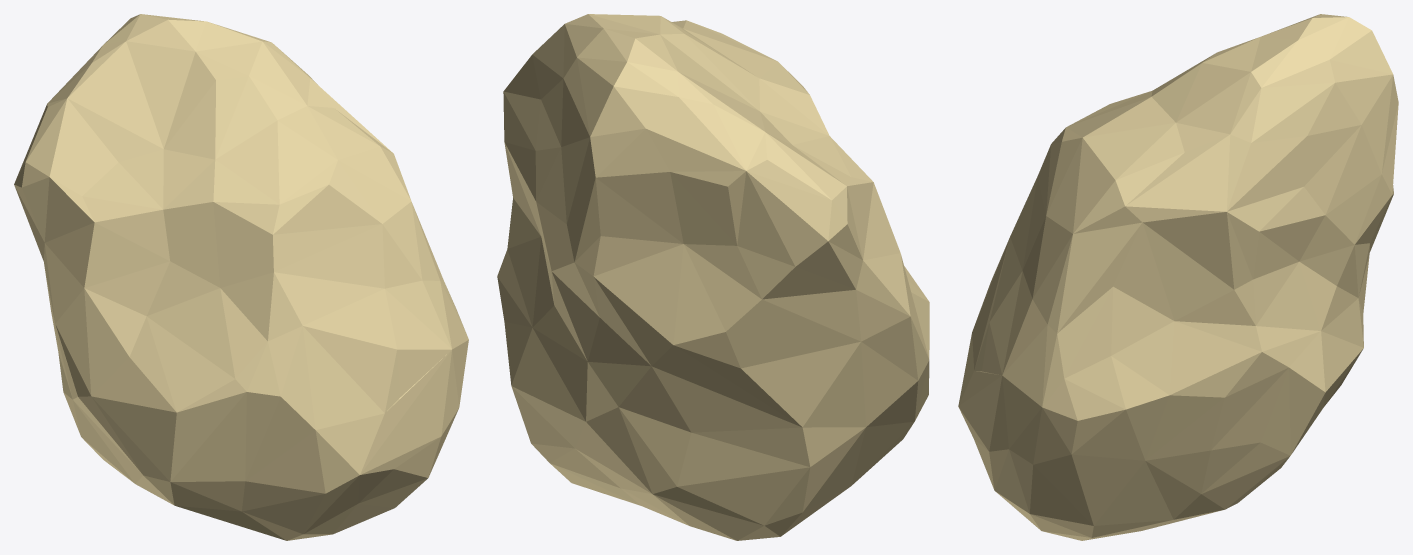
The model's file is Asteroid (104).fbx.
3 views of the same model, side by side, from view 1: azimuth 30°, elevation 25°; view 2: azimuth 150°, elevation 25°; view 3: azimuth 270°, elevation 25° (orthographic). The views are drawn at different scales.
Visible parts, largest first — view 1: Asteroid154; view 2: Asteroid154; view 3: Asteroid154.
Boxes of the visible parts, <box> form: Asteroid154: <box>14,14,468,540</box>; Asteroid154: <box>497,14,929,540</box>; Asteroid154: <box>958,14,1398,540</box>.
Bounding box in the file's own units: 204 × 245 × 204.
